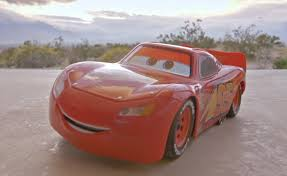mcqueen: (48, 40, 248, 168)
